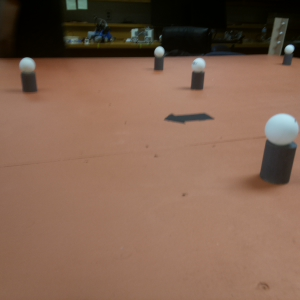corner: (272, 15, 284, 59)
obstacle: (262, 114, 295, 190), (20, 57, 36, 91), (192, 58, 204, 89), (153, 46, 164, 73), (285, 42, 293, 65)
start: (165, 108, 214, 127)
